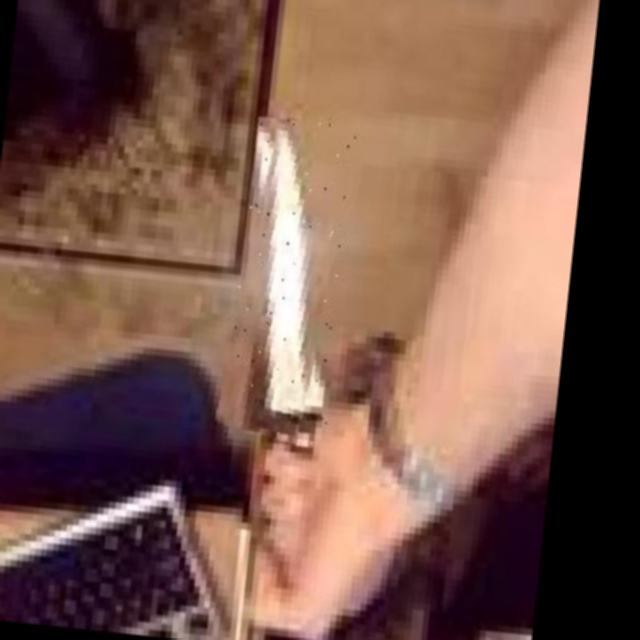Sharp-Object: (223, 116, 361, 445)
